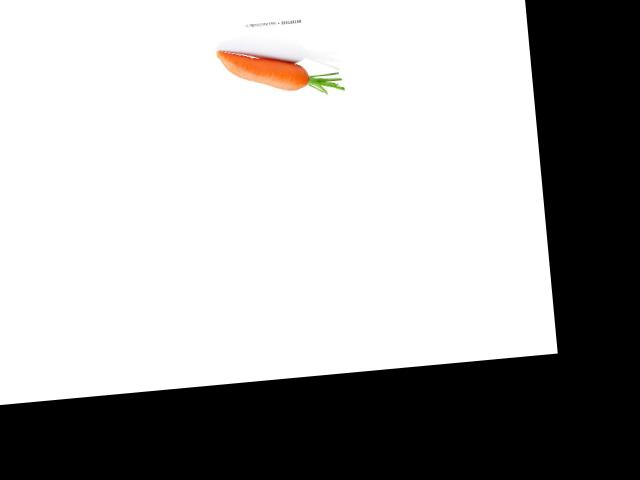carrot: (210, 40, 322, 100)
